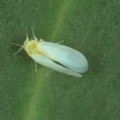whitefly: (10, 26, 89, 80)
